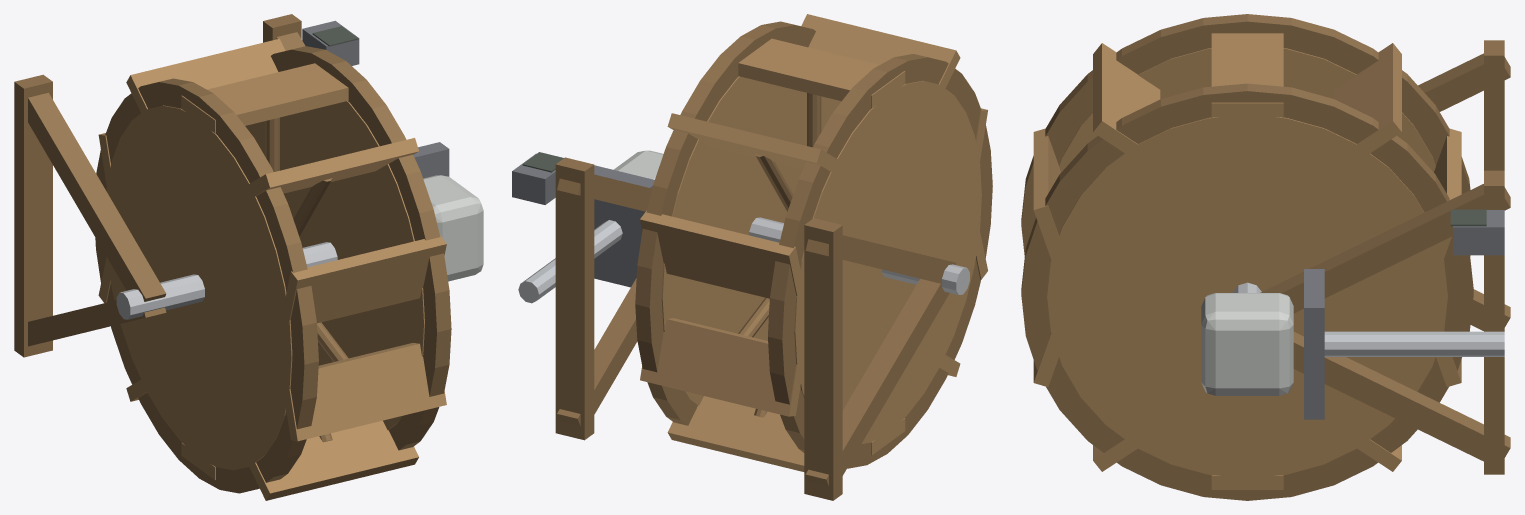
Rendered from hydro.obj.
3 renders of one model, left to right at view 1: azimuth 30°, elevation 25°; view 2: azimuth 150°, elevation 25°; view 3: azimuth 270°, elevation 25°, orthographic. The views are drawn at different scales.
Bounding box in the file's own units: 0.85 × 0.88 × 0.9518.
1 material, 1 textured.
